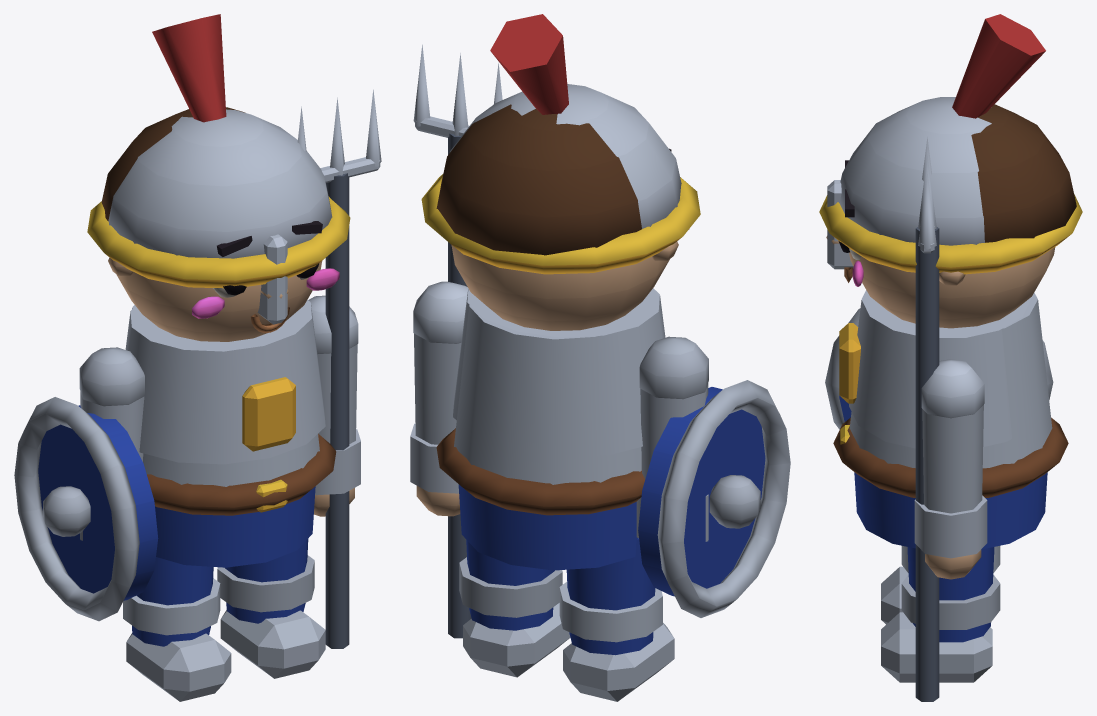
Rendered from hero_tidus.glb.
The picture shows the model from 3 angles, left to right: view 1: azimuth 30°, elevation 25°; view 2: azimuth 150°, elevation 25°; view 3: azimuth 270°, elevation 25°; orthographic projection. The views are drawn at different scales.
Visible parts, largest first — view 1: body_t0_palette, arml_t0_palette, armr_t0_palette, legl_t0_palette, legr_t0_palette; view 2: body_t0_palette, arml_t0_palette, armr_t0_palette, legl_t0_palette, legr_t0_palette; view 3: body_t0_palette, armr_t0_palette, legr_t0_palette, arml_t0_palette, legl_t0_palette.
Boxes of the visible parts, bbox=[...] form: body_t0_palette: bbox=[87, 14, 350, 567]; arml_t0_palette: bbox=[14, 347, 158, 621]; armr_t0_palette: bbox=[297, 89, 381, 648]; legl_t0_palette: bbox=[123, 557, 231, 701]; legr_t0_palette: bbox=[217, 539, 325, 678]; body_t0_palette: bbox=[421, 14, 700, 570]; arml_t0_palette: bbox=[636, 336, 790, 617]; armr_t0_palette: bbox=[410, 44, 502, 638]; legl_t0_palette: bbox=[559, 538, 674, 701]; legr_t0_palette: bbox=[459, 540, 570, 677]; body_t0_palette: bbox=[819, 14, 1082, 549]; armr_t0_palette: bbox=[914, 137, 987, 701]; legr_t0_palette: bbox=[881, 547, 1000, 682]; arml_t0_palette: bbox=[825, 308, 1053, 429]; legl_t0_palette: bbox=[881, 546, 1000, 624].
Size of the model in its own units: 0.3219 by 0.5929 by 0.224.
